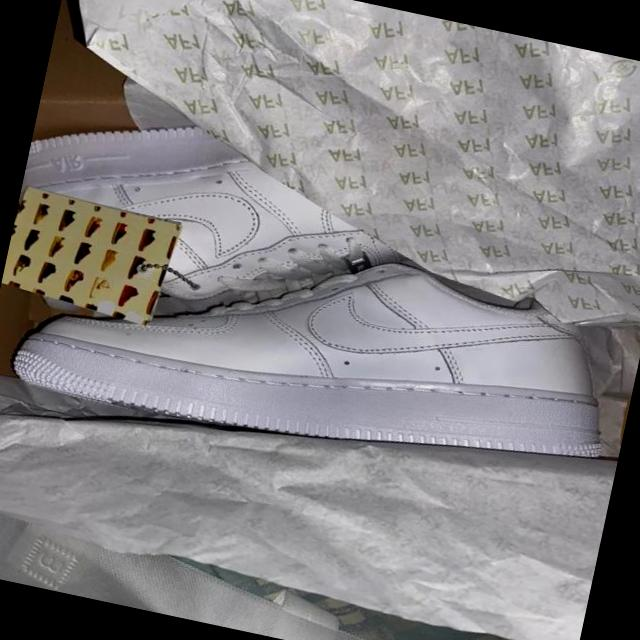nike_fake_airforce: (6, 180, 634, 511)
